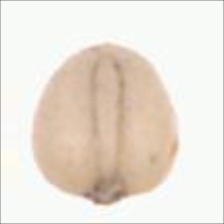L5: (85, 51, 130, 184), (82, 176, 134, 208)
L6: (30, 40, 184, 206)
